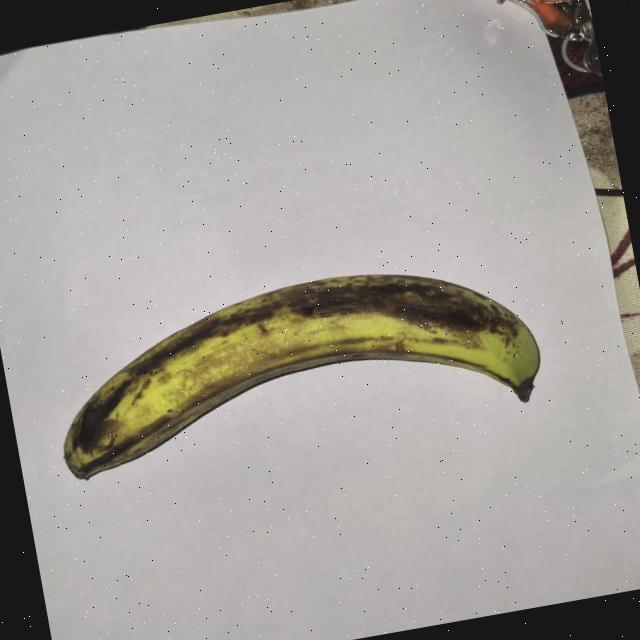Overripe: (10, 222, 568, 513)
